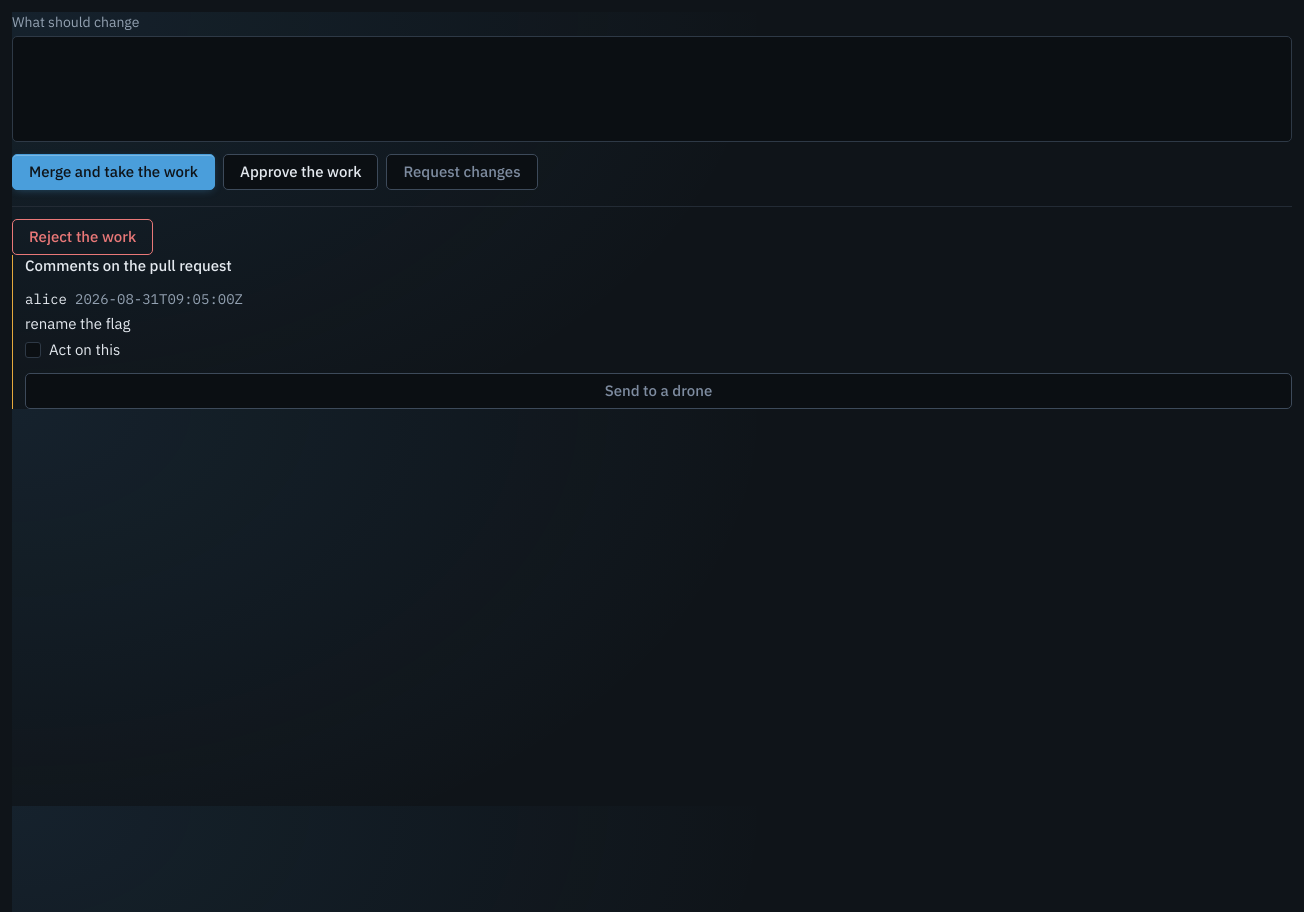
it: a fresh remarks reading keeps a picked comment and a typed note
Click the checkbox labelled "Act on this" at (73, 350), box [25, 340, 120, 359]
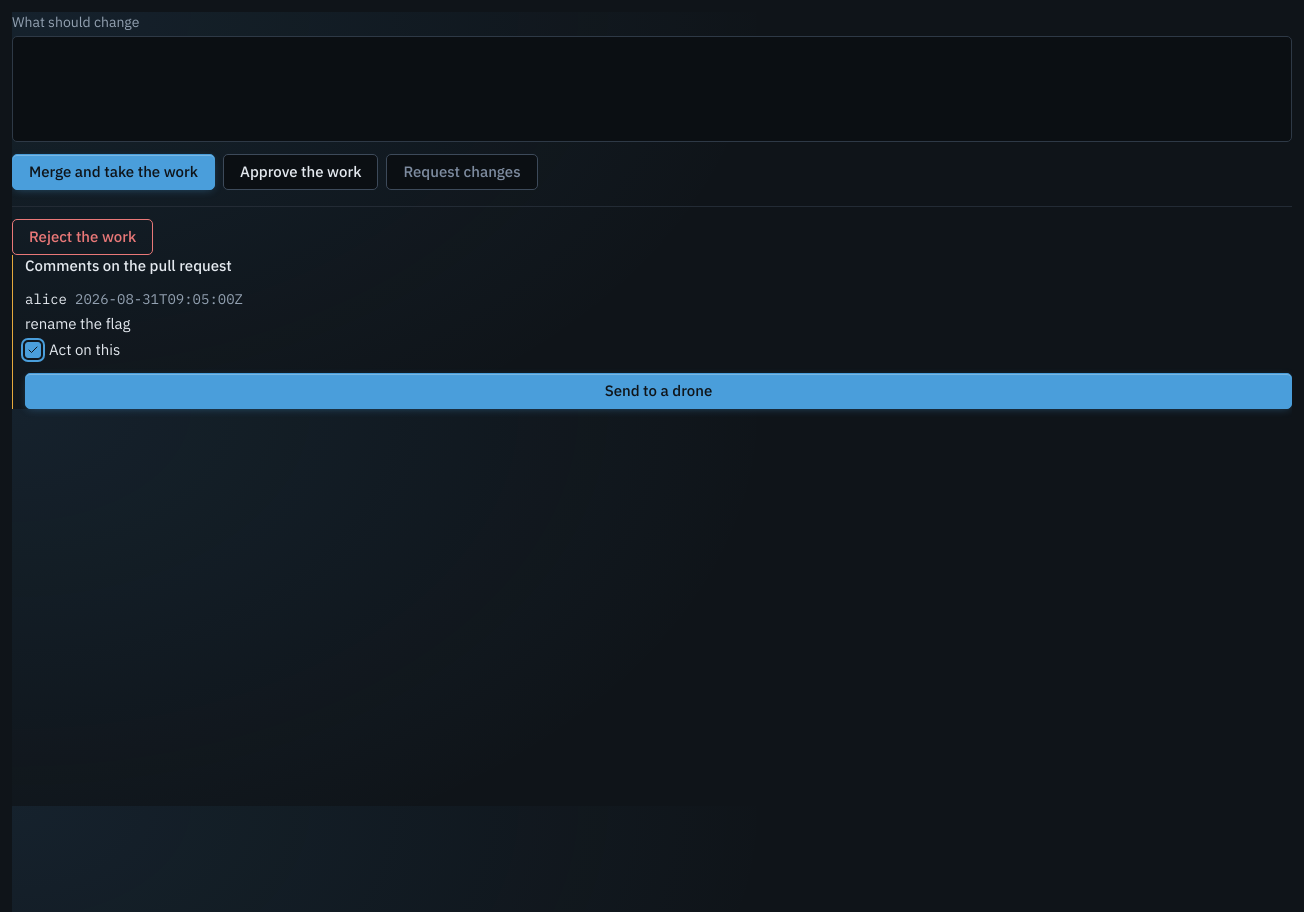
Type "The gate arm is missing from config's loader." into the text box labelled "What should change" at (652, 89), box [12, 36, 1292, 142]
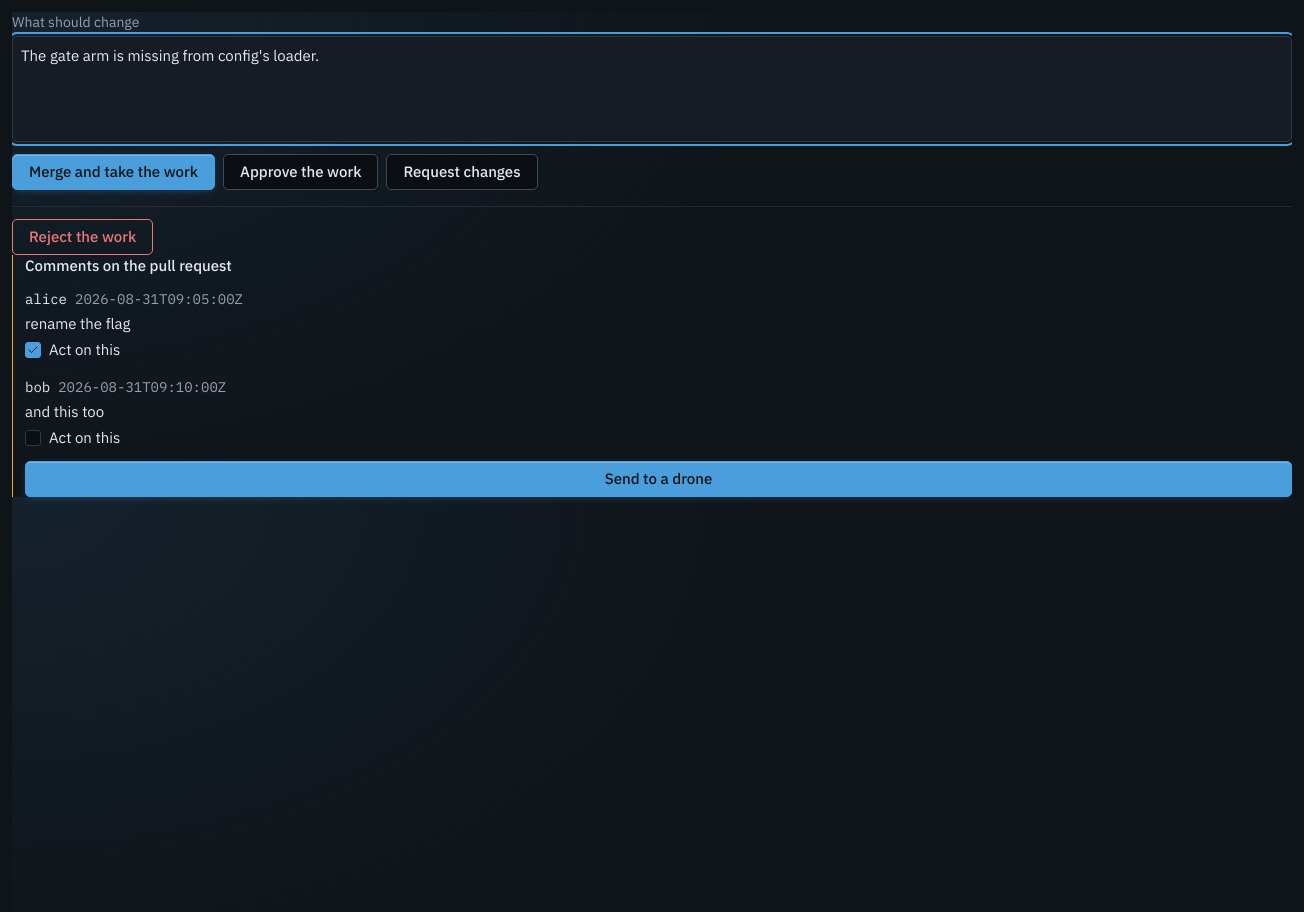
Expected: the checkbox labelled "Act on this" below "alice" is checked, [25, 340, 120, 359]
Expected: the checkbox labelled "Act on this" below "bob" is not checked, [25, 428, 120, 447]
